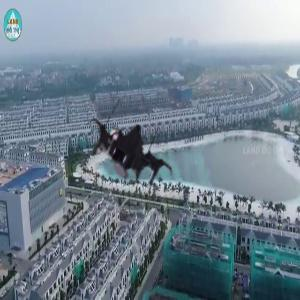drone: (73, 98, 185, 210)
